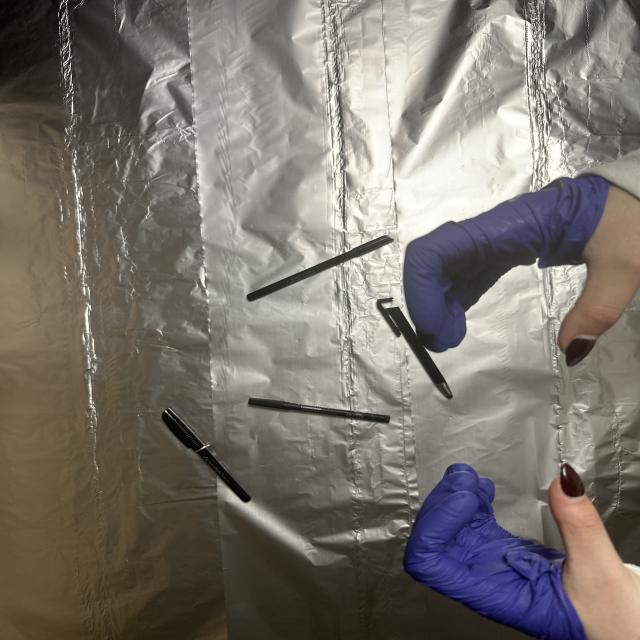glove_partial: (397, 168, 640, 368), (391, 455, 640, 640)
